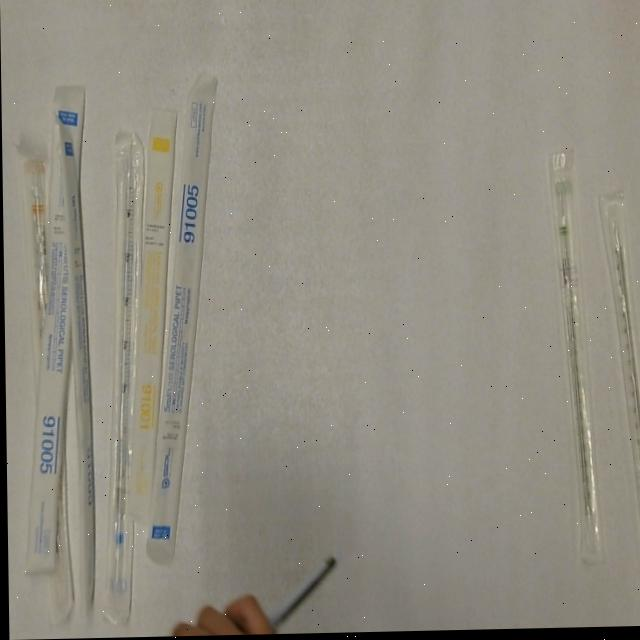Serelogical Pipet 1 mL - Sealed: (119, 106, 186, 530)
Serelogical Pipet 10 mL - Sealed: (18, 146, 62, 383)
Serelogical Pipet 2 mL - Sealed: (544, 148, 608, 575)
Serelogical Pipet 5 mL - Sealed: (136, 72, 225, 565), (16, 80, 93, 577), (94, 133, 152, 625), (56, 114, 97, 622)
Single Channel Pipettor: (255, 551, 338, 635)
